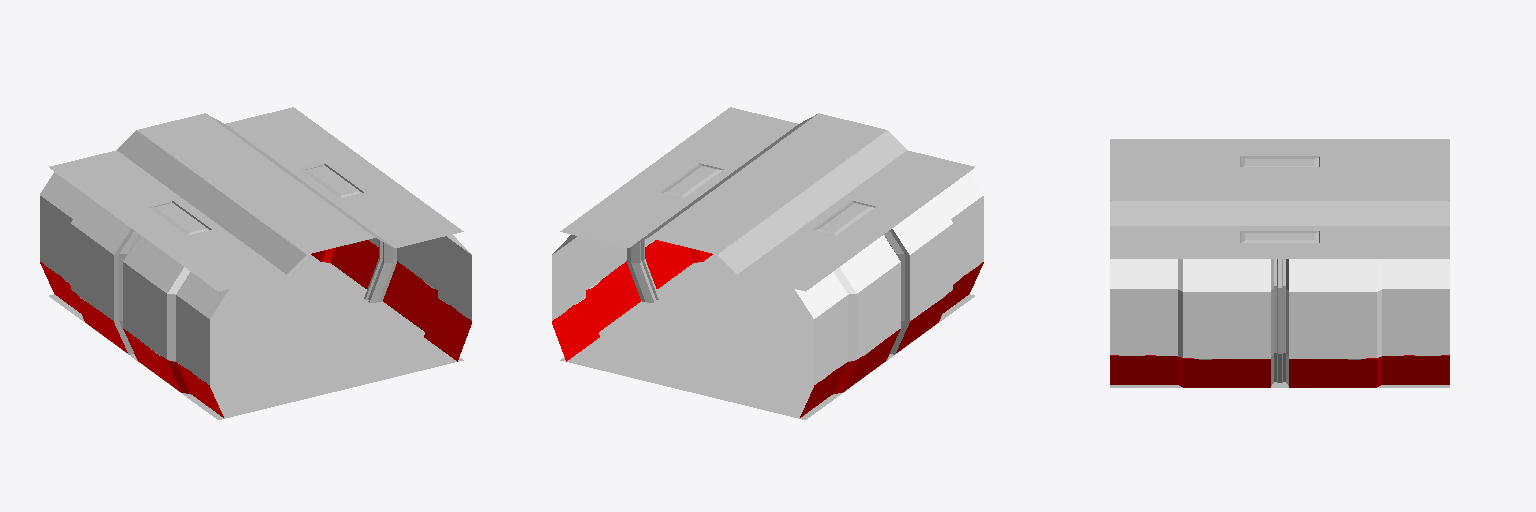
3 renders of one model, left to right at view 1: azimuth 30°, elevation 25°; view 2: azimuth 150°, elevation 25°; view 3: azimuth 270°, elevation 25°, orthographic.
Parts seen in each view (by area): view 1: Plane; view 2: Plane; view 3: Plane.
Boxes of the visible parts, x1=… form: Plane: x1=40, y1=107, x2=471, y2=419; Plane: x1=552, y1=107, x2=983, y2=419; Plane: x1=1110, y1=139, x2=1449, y2=387.
Bounding box in the file's own units: 5.6 × 2.8 × 6.
4 materials, 1 textured.